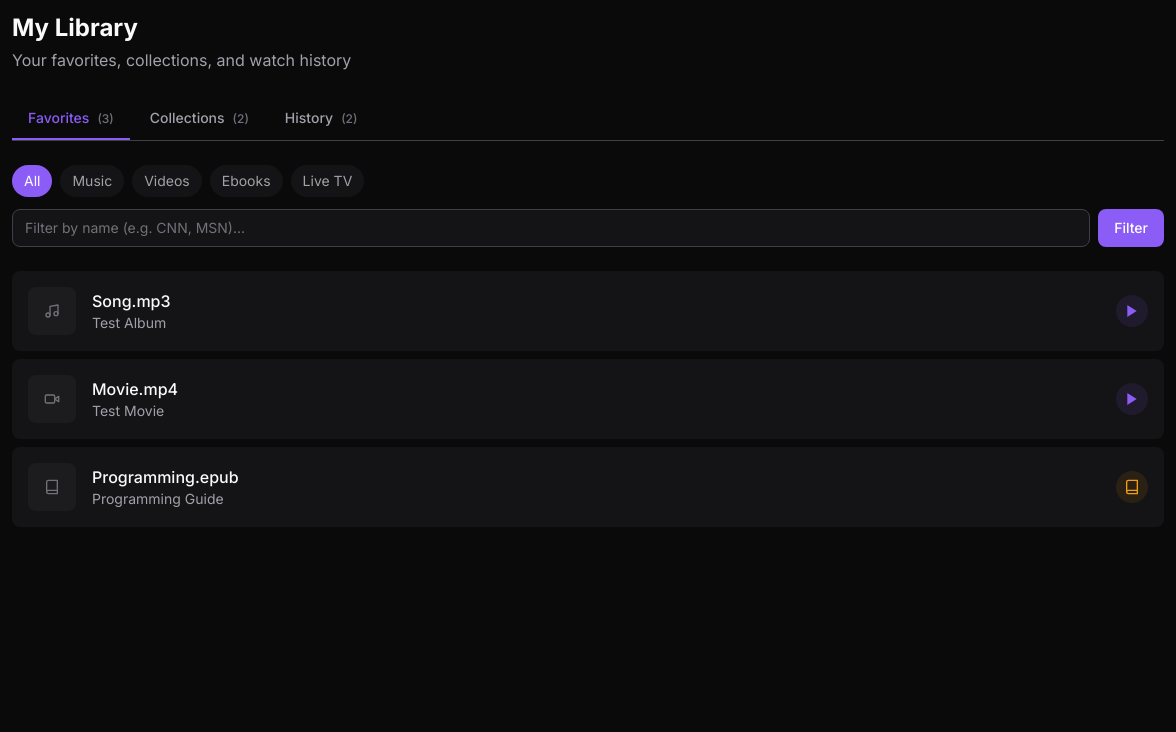
Test: LibraryContent › Tabs › switches between tabs
Expected: the heading "Song.mp3" is shown, [92, 291, 170, 311]
Switch to collections
Click the button "Collections(2)": (199, 118) [134, 96, 265, 140]
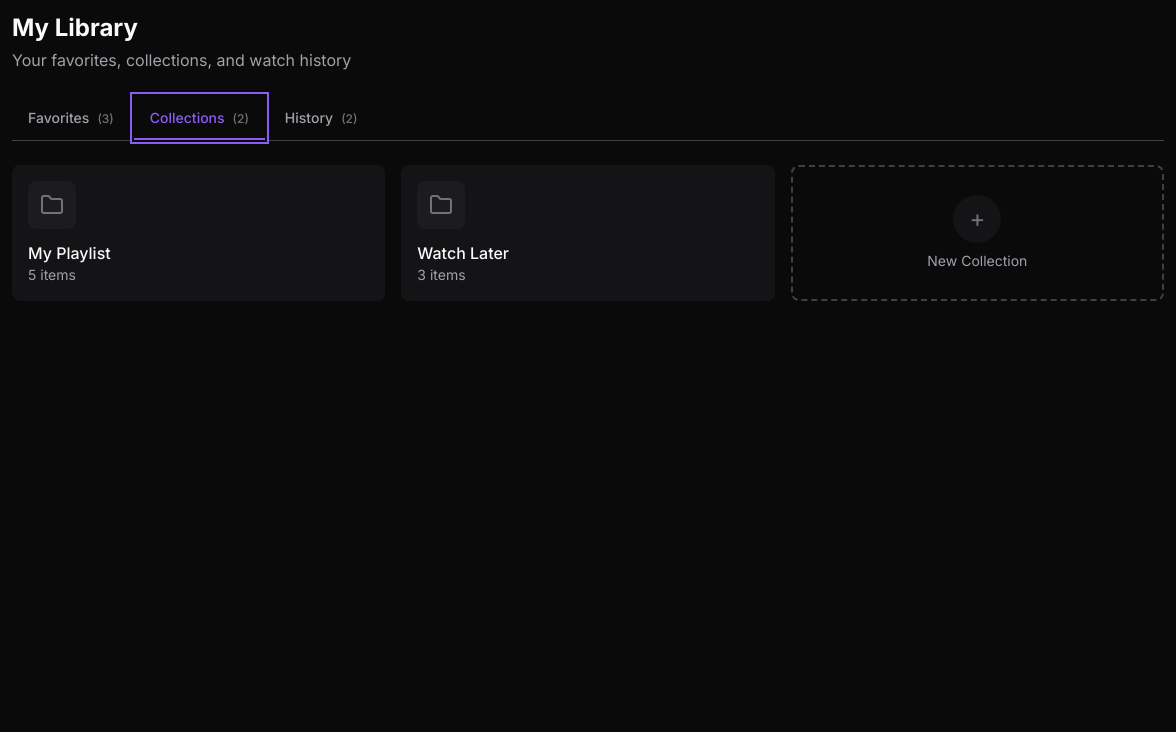
Expected: the heading "My Playlist" is shown, [28, 243, 111, 263]
Switch to history
Click the button "History(2)": (321, 118) [269, 96, 373, 140]
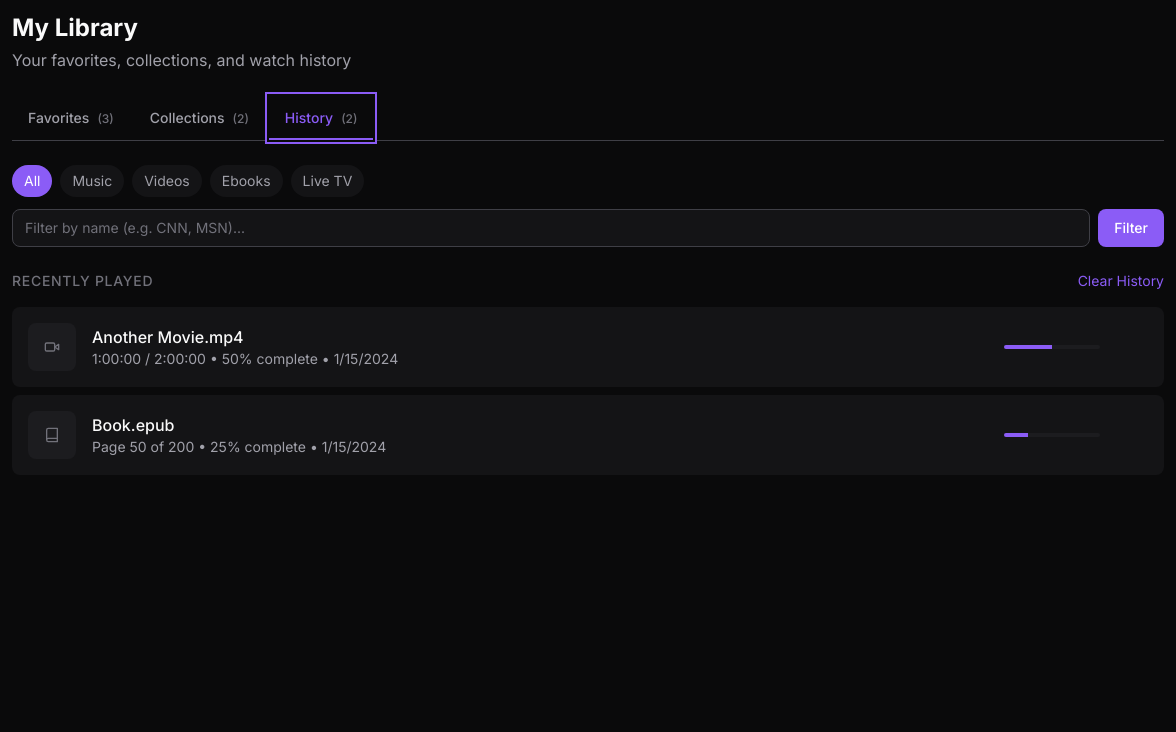
Expected: the heading "Another Movie.mp4" is shown, [92, 327, 244, 347]
